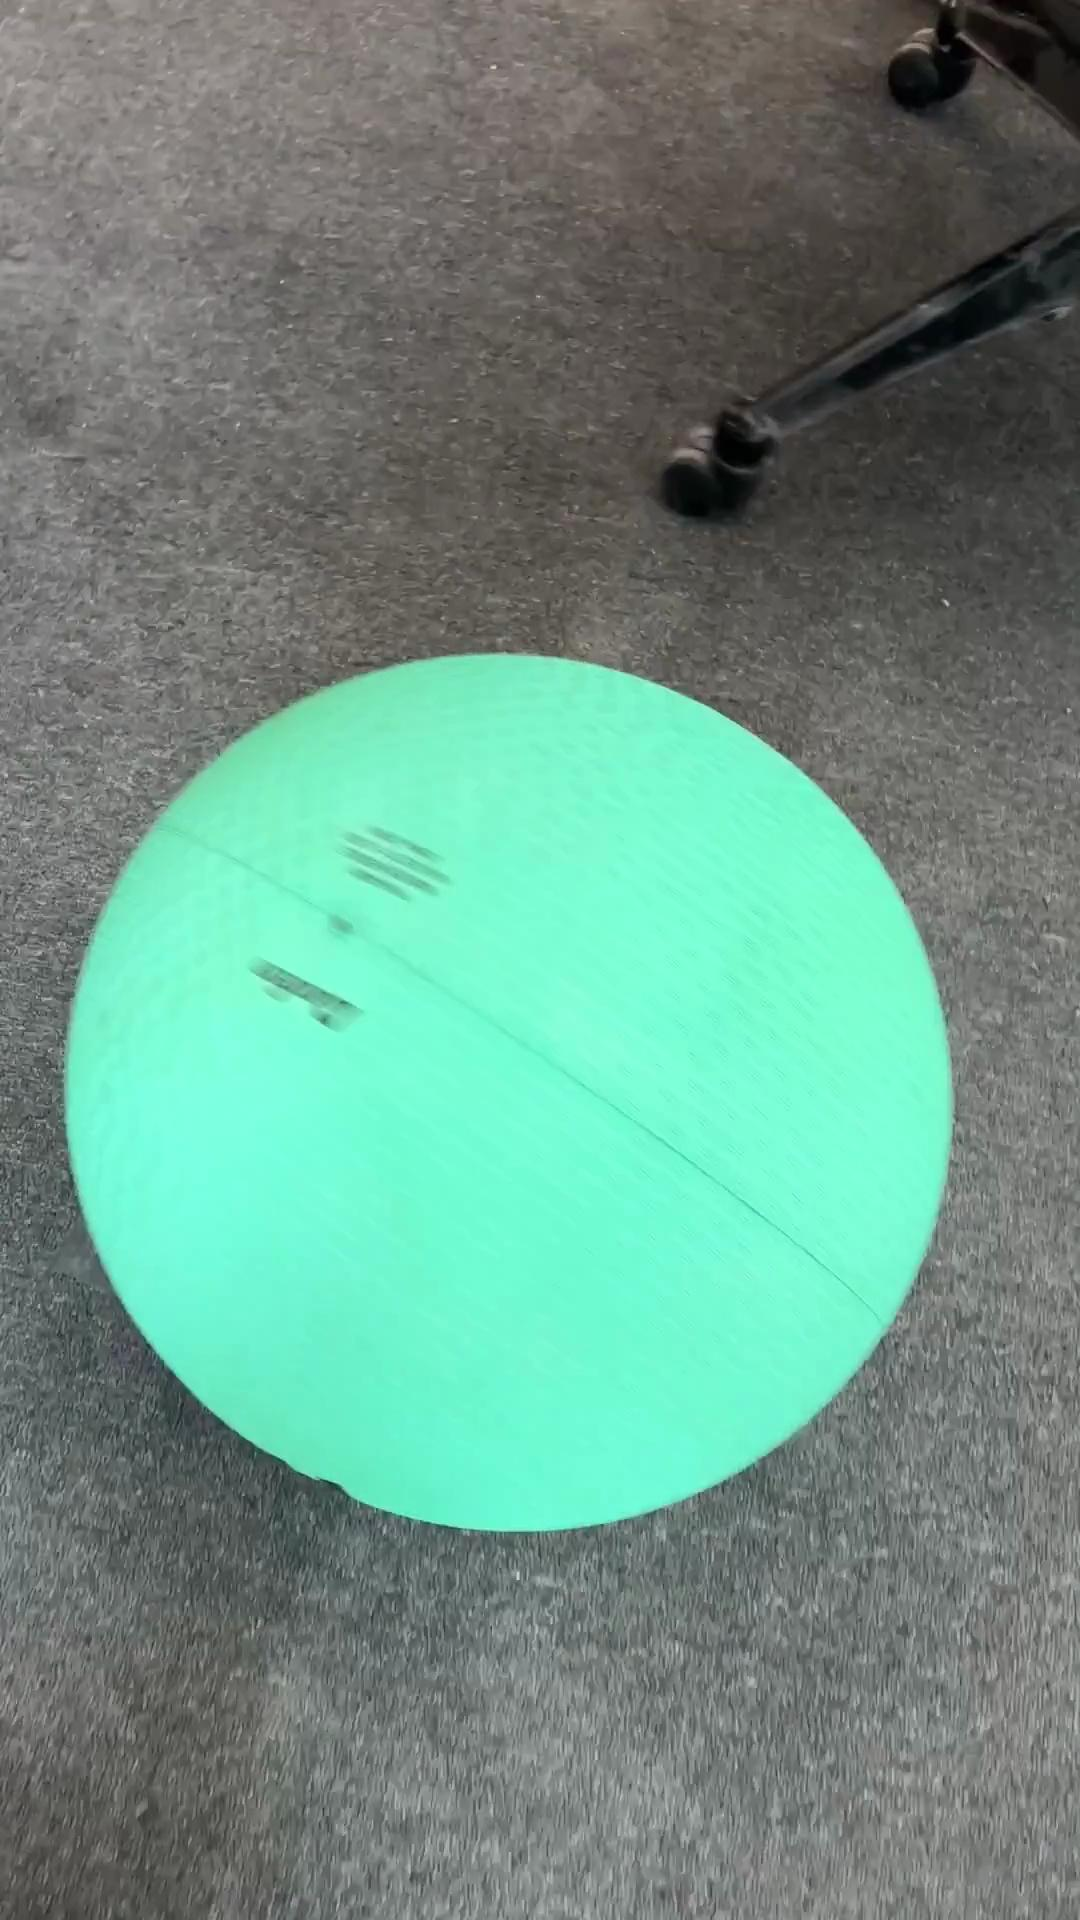ALGAE: (59, 647, 957, 1535)
